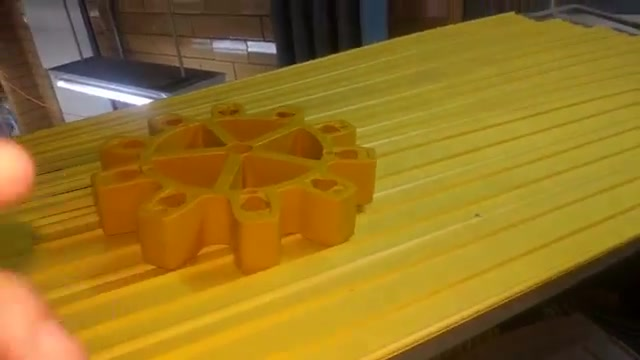gear: (66, 96, 390, 285)
